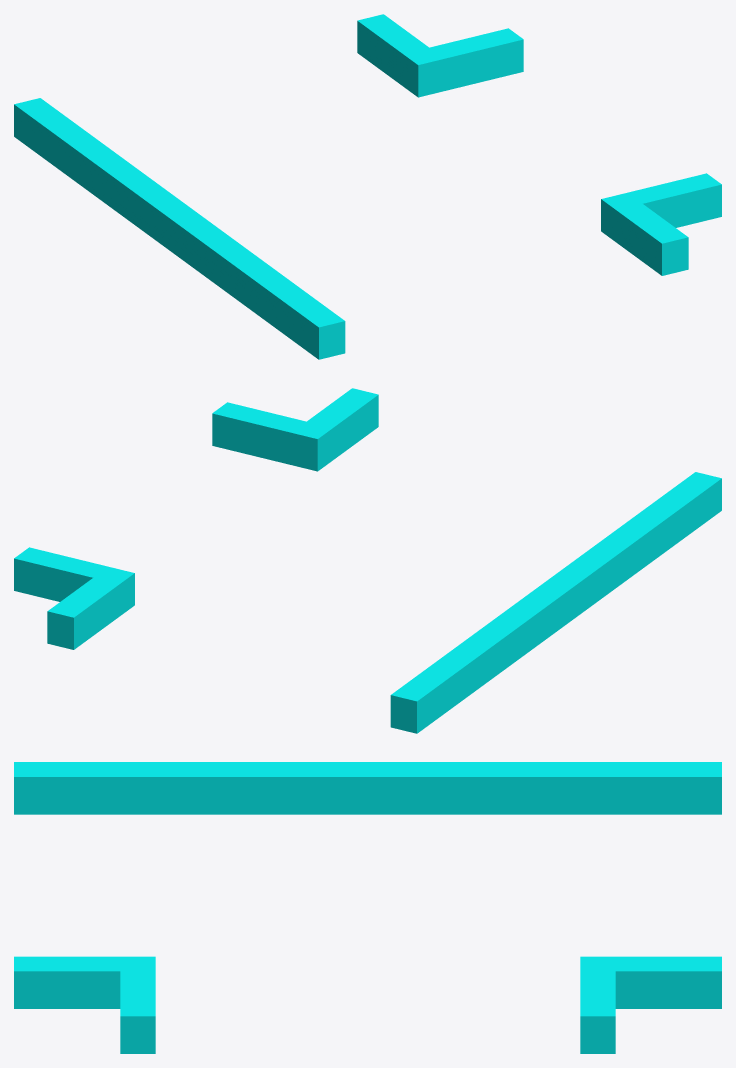
File: RAILS_T.fbx
3 views of the same model, one above another, from view 1: azimuth 30°, elevation 25°; view 2: azimuth 150°, elevation 25°; view 3: azimuth 270°, elevation 25° (orthographic). The views are drawn at different scales.
Visible parts, largest first — view 1: RAILS_T; view 2: RAILS_T; view 3: RAILS_T.
Part boxes in pixels (box(x1,y1,x2,y2)): RAILS_T: box(14, 14, 721, 359); RAILS_T: box(14, 388, 721, 733); RAILS_T: box(14, 762, 721, 1053).
Size of the model in its own units: 85 by 5.86 by 100.
